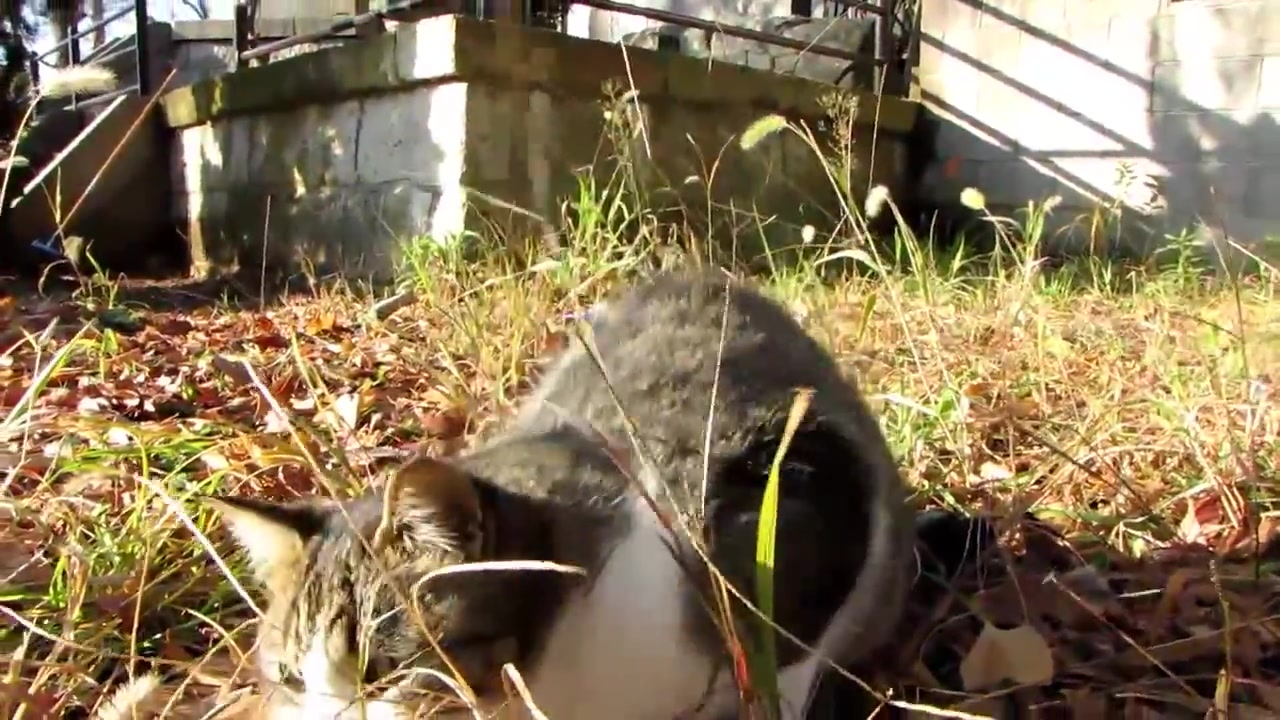cat: (201, 273, 921, 720)
